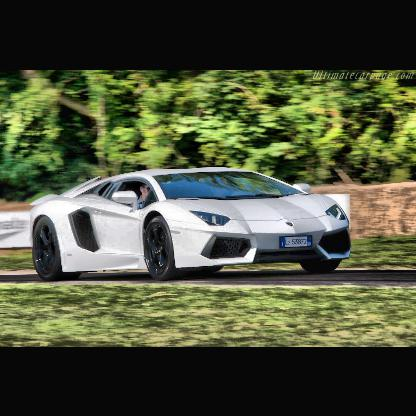Lamborghini Aventador Coupe 2012: (28, 166, 354, 282)
